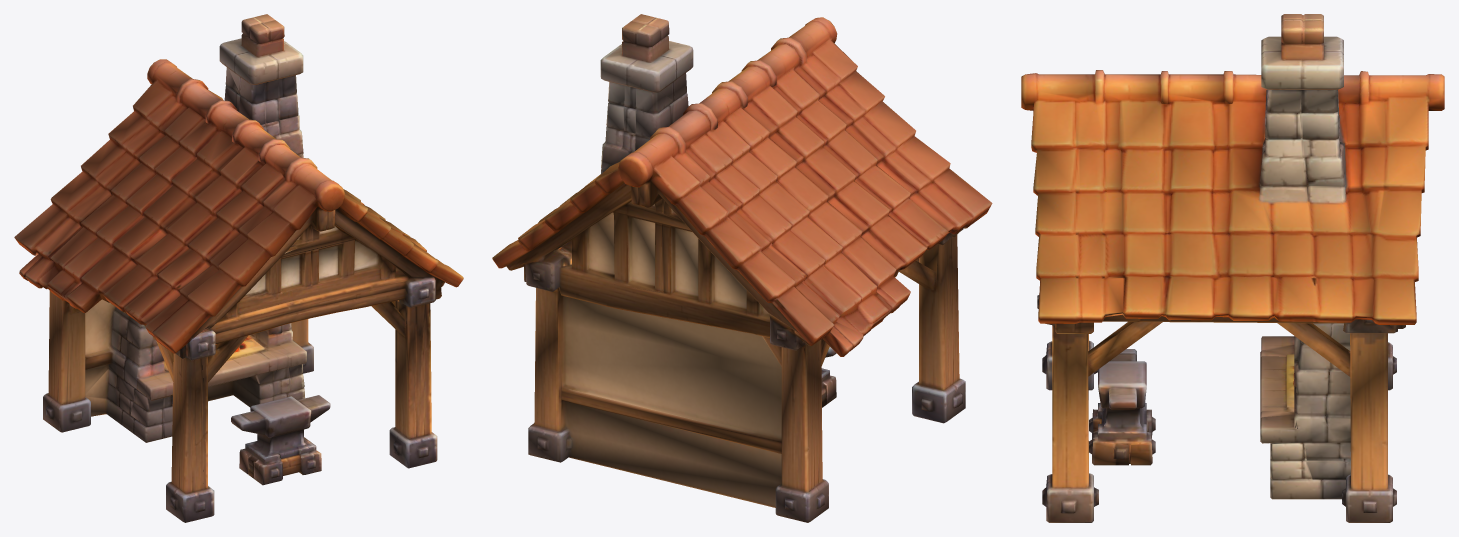
3 views of the same model, side by side, from view 1: azimuth 30°, elevation 25°; view 2: azimuth 150°, elevation 25°; view 3: azimuth 270°, elevation 25° (orthographic). The views are drawn at different scales.
Visible parts, largest first — view 1: tripo_node_1beef889-6944-4af0-ba01-250995036c38; view 2: tripo_node_1beef889-6944-4af0-ba01-250995036c38; view 3: tripo_node_1beef889-6944-4af0-ba01-250995036c38.
Boxes of the visible parts, bbox=[...] form: tripo_node_1beef889-6944-4af0-ba01-250995036c38: bbox=[14, 14, 463, 522]; tripo_node_1beef889-6944-4af0-ba01-250995036c38: bbox=[492, 14, 992, 522]; tripo_node_1beef889-6944-4af0-ba01-250995036c38: bbox=[1021, 14, 1444, 522].
Size of the model in its own units: 0.8244 by 0.9774 by 0.8129.
1 material, 1 textured.
